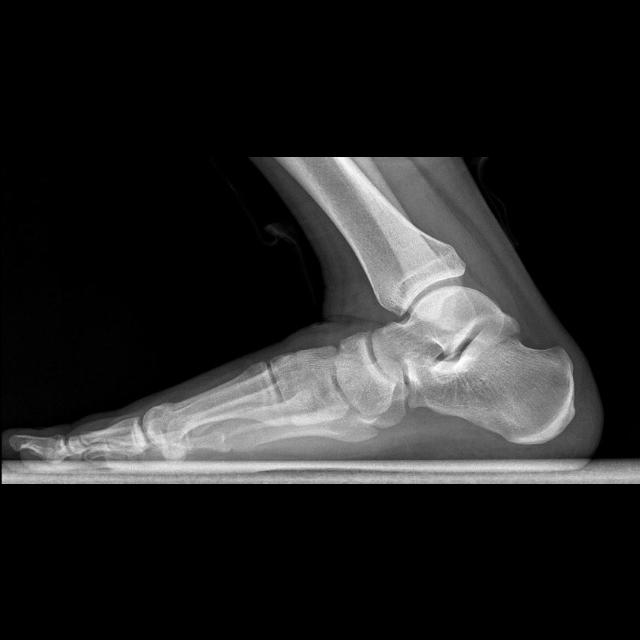a: (407, 317, 574, 443)
b: (333, 333, 397, 414)
c: (144, 360, 292, 448)
